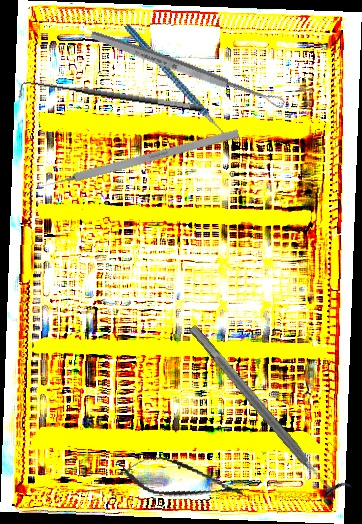Chopper: (124, 1, 242, 165)
Fixation Ring: (178, 315, 354, 510)
Hook Surgical: (36, 129, 240, 192), (17, 73, 203, 127)
Micro Scissor: (119, 449, 248, 511)
Surgical Spoon: (88, 28, 287, 111)
